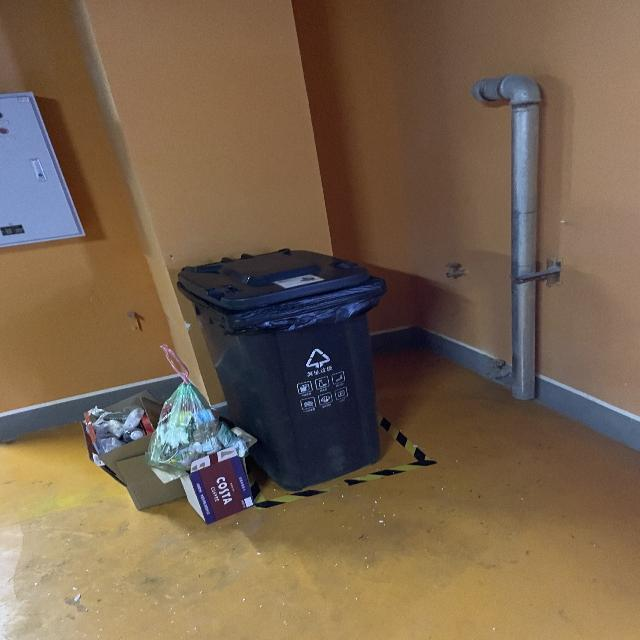garbage: (80, 343, 256, 524)
garbage_bin: (177, 248, 385, 492)
